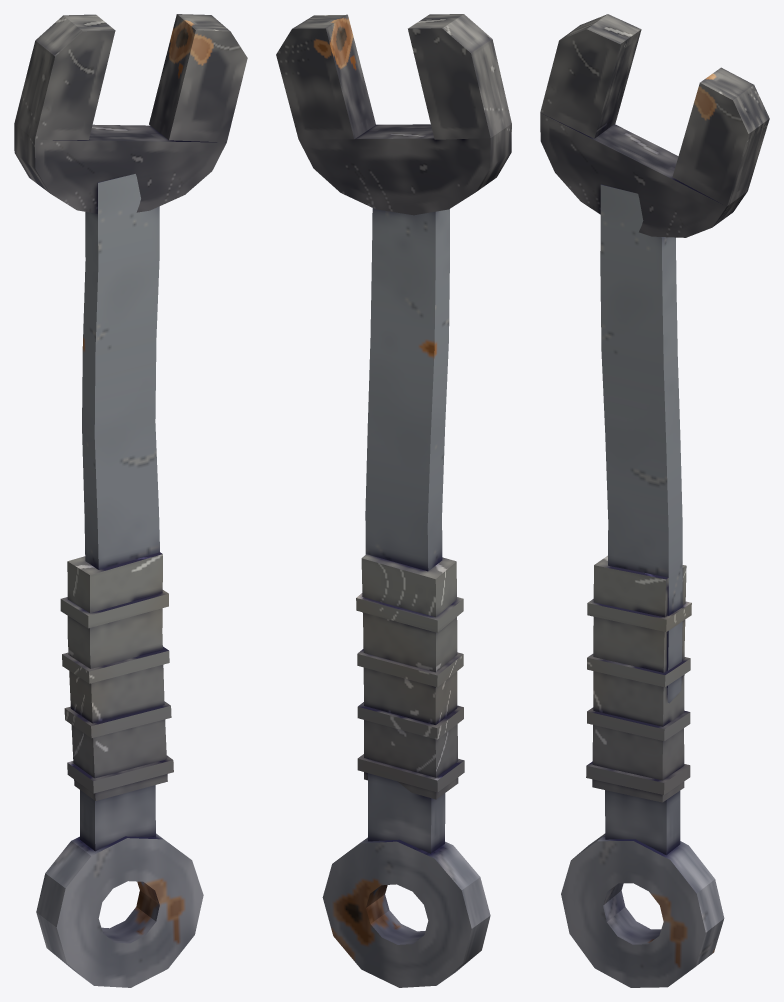
The model's file is BigSpanner.glb.
3 views of the same model, side by side, from view 1: azimuth 30°, elevation 25°; view 2: azimuth 150°, elevation 25°; view 3: azimuth 330°, elevation 25° (orthographic). The views are drawn at different scales.
Parts seen in each view (by area): view 1: Shaft, Jaw, Grip; view 2: Shaft, Jaw, Grip; view 3: Shaft, Jaw, Grip.
Boxes of the visible parts, <box> form: Shaft: <box>36,174,203,987</box>; Jaw: <box>14,14,247,213</box>; Grip: <box>60,552,173,800</box>; Shaft: <box>322,208,490,987</box>; Jaw: <box>276,14,511,215</box>; Grip: <box>356,554,464,799</box>; Shaft: <box>561,184,724,987</box>; Jaw: <box>540,14,769,237</box>; Grip: <box>586,555,691,802</box>.
Size of the model in its own units: 1.06 by 4.57 by 0.2581.
3 materials, 3 textured.
